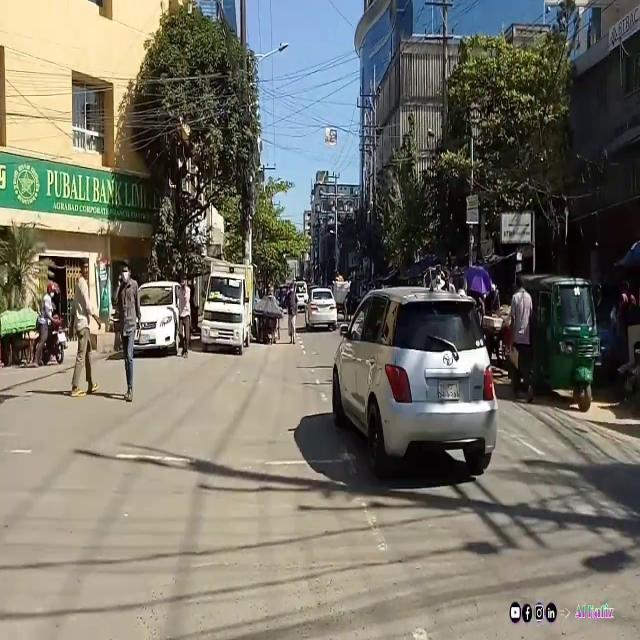silver: (336, 286, 498, 475)
white: (135, 282, 180, 359), (307, 288, 338, 332)
